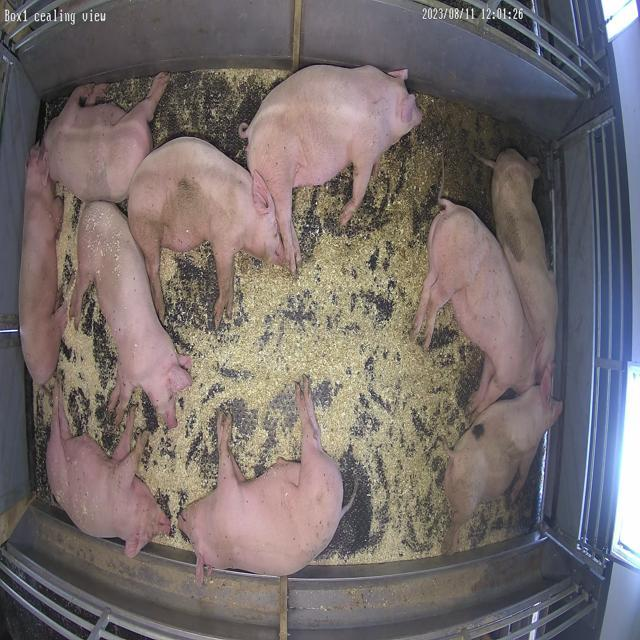Dirt: (374, 92, 546, 248)
Pig: (240, 65, 423, 274), (178, 379, 350, 584), (128, 137, 284, 326), (70, 201, 191, 428), (414, 199, 535, 416), (46, 385, 170, 558), (444, 387, 564, 554), (485, 149, 559, 394), (43, 72, 170, 202), (18, 146, 66, 385)
